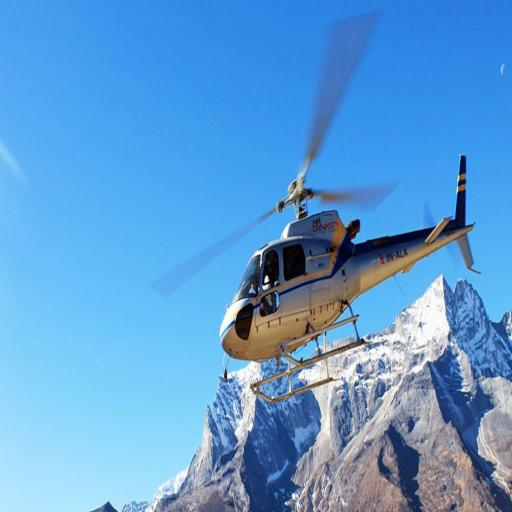helicopter: (150, 14, 484, 397)
